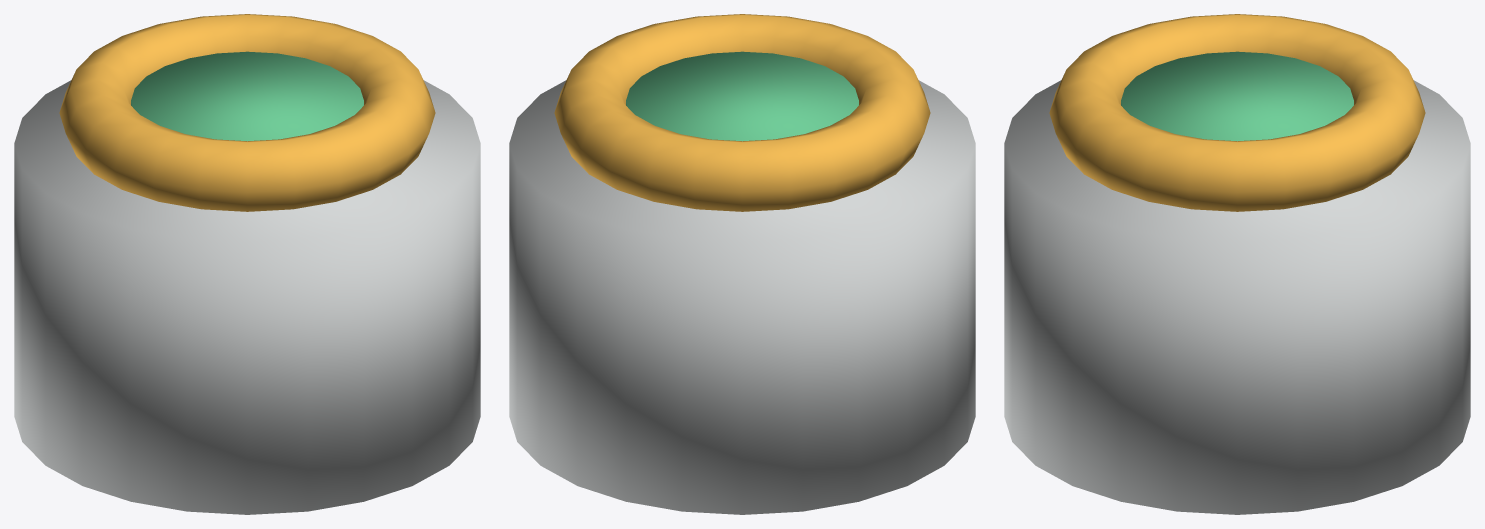
Rendered from DeliveryPoint.fbx.
3 views of the same model, side by side, from view 1: azimuth 30°, elevation 25°; view 2: azimuth 150°, elevation 25°; view 3: azimuth 270°, elevation 25° (orthographic).
Parts seen in each view (by area): view 1: MAT_Steel Geometry.007, MAT_Ochre Geometry.003, MAT_Delivery Geometry.001; view 2: MAT_Steel Geometry.007, MAT_Ochre Geometry.003, MAT_Delivery Geometry.001; view 3: MAT_Steel Geometry.007, MAT_Ochre Geometry.003, MAT_Delivery Geometry.001.
Boxes of the visible parts, <box> form: MAT_Steel Geometry.007: <box>14,80,480,514</box>; MAT_Ochre Geometry.003: <box>59,14,435,211</box>; MAT_Delivery Geometry.001: <box>131,51,363,141</box>; MAT_Steel Geometry.007: <box>509,80,975,514</box>; MAT_Ochre Geometry.003: <box>554,14,930,211</box>; MAT_Delivery Geometry.001: <box>626,51,858,141</box>; MAT_Steel Geometry.007: <box>1004,80,1470,514</box>; MAT_Ochre Geometry.003: <box>1049,14,1425,211</box>; MAT_Delivery Geometry.001: <box>1121,51,1353,141</box>.
Size of the model in its own units: 124 by 99 by 124.
